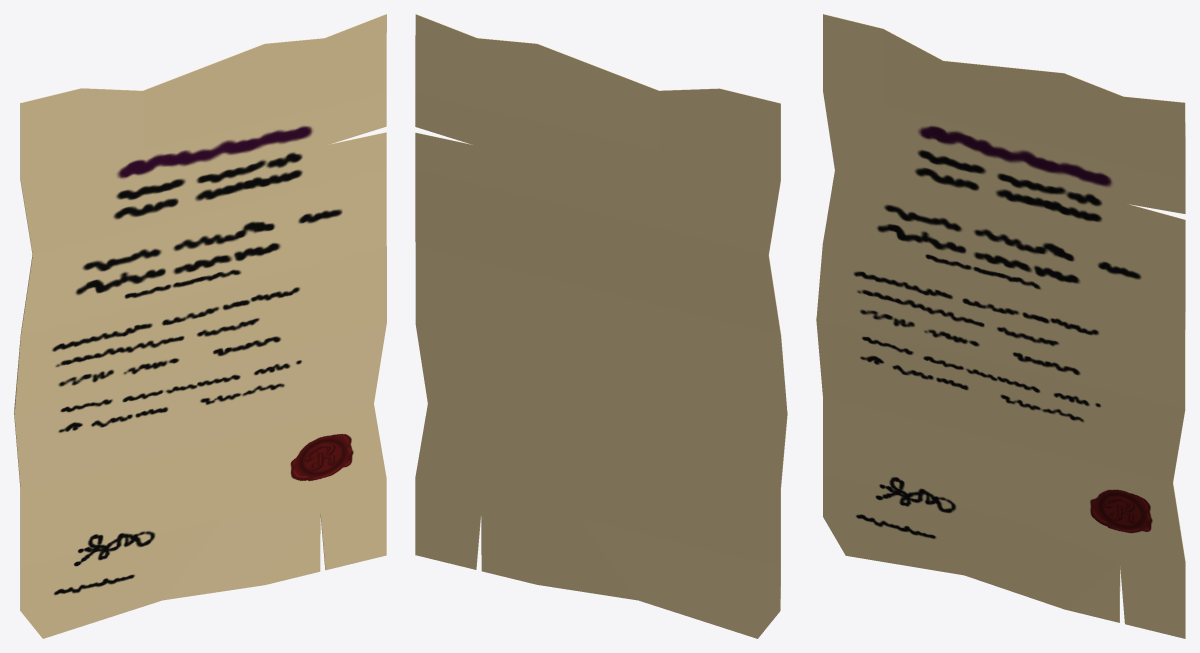
File: Royal_Decree.fbx
3 views of the same model, side by side, from view 1: azimuth 30°, elevation 25°; view 2: azimuth 150°, elevation 25°; view 3: azimuth 330°, elevation 25° (orthographic).
Parts seen in each view (by area): view 1: Note A4; view 2: Note A4; view 3: Note A4.
Part boxes in pixels (x1,y1,x2,y2): Note A4: (14,14,386,638); Note A4: (415,14,787,638); Note A4: (816,14,1185,638).
Size of the model in its own units: 21.37 by 29.7 by 0.1.
